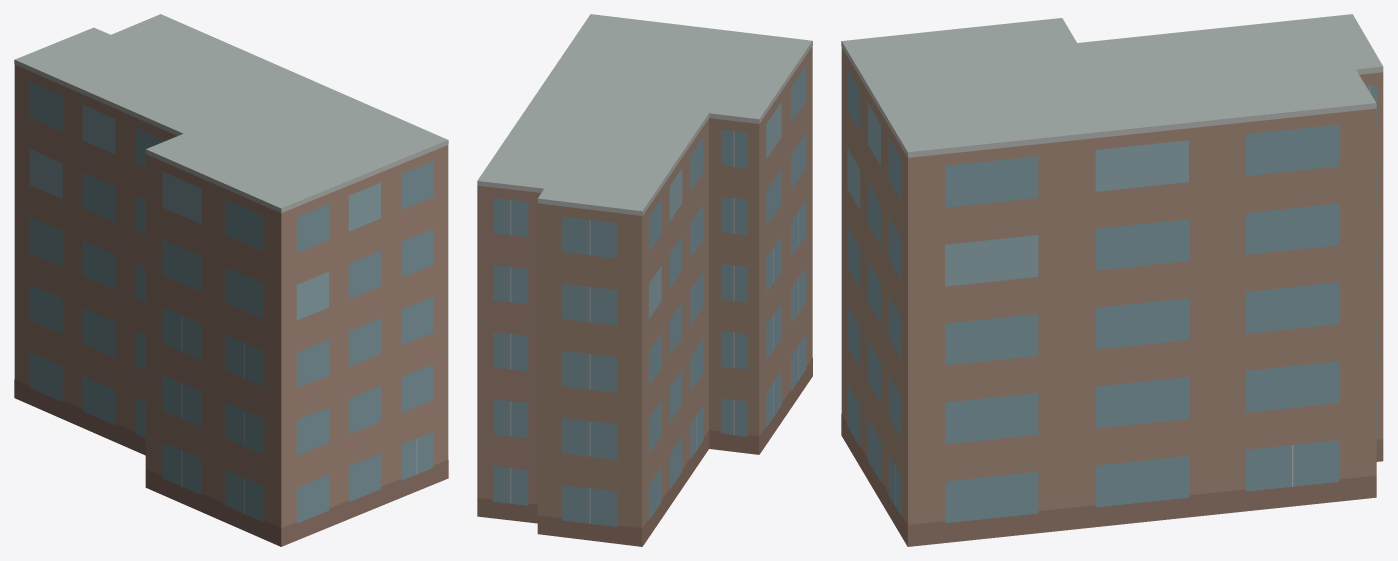
Rendered from survey-upis-33013154.glb.
3 renders of one model, left to right at view 1: azimuth 30°, elevation 25°; view 2: azimuth 150°, elevation 25°; view 3: azimuth 270°, elevation 25°, orthographic. The views are drawn at different scales.
Visible parts, largest first — view 1: survey-upis-33013154.tmp; view 2: survey-upis-33013154.tmp; view 3: survey-upis-33013154.tmp.
Part boxes in pixels (x1=…): survey-upis-33013154.tmp: x1=14, y1=14, x2=448, y2=546; survey-upis-33013154.tmp: x1=477, y1=14, x2=812, y2=546; survey-upis-33013154.tmp: x1=841, y1=14, x2=1383, y2=546.
Size of the model in its own units: 12.94 by 17.2 by 21.42.
